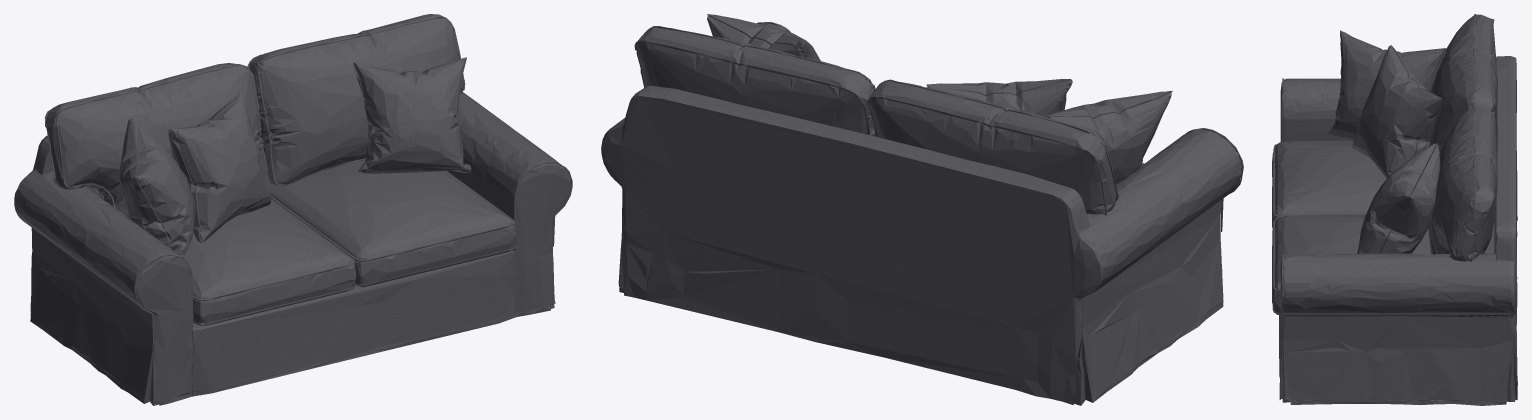
The model's file is ektorp-sofa.glb.
3 renders of one model, left to right at view 1: azimuth 30°, elevation 25°; view 2: azimuth 150°, elevation 25°; view 3: azimuth 270°, elevation 25°, orthographic. The views are drawn at different scales.
Parts seen in each view (by area): view 1: product; view 2: product; view 3: product.
Boxes of the visible parts, x1,y1,x2,y2 form: product: (14,14,572,405); product: (601,14,1243,405); product: (1272,14,1517,405).
Bounding box in the file's own units: 1 × 0.4873 × 0.5124.
Materials: 1 (1 with a texture image).
